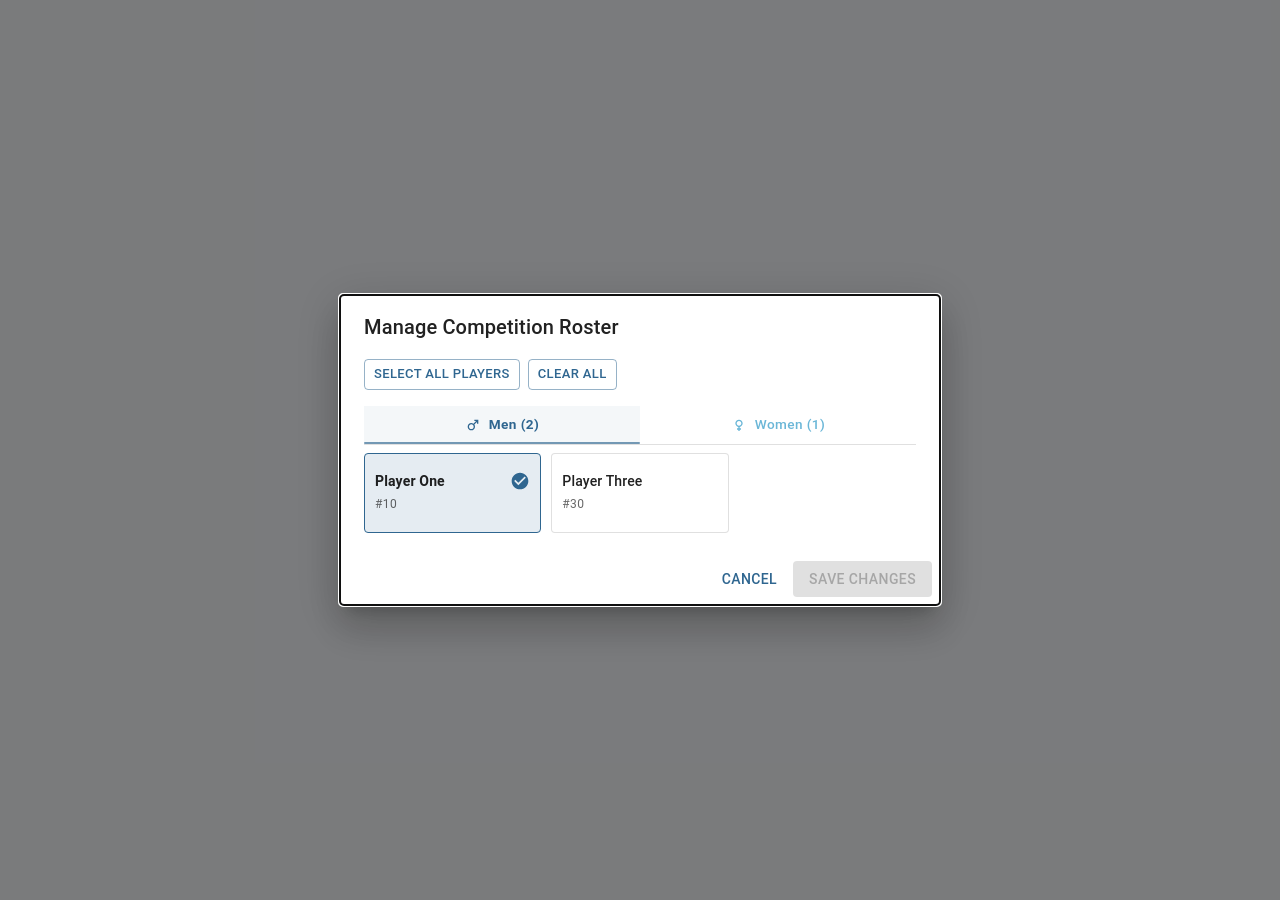
it: AddPlayersToRosterModal › preselects roster players and disables save when unchanged
Expected: the heading "Manage Competition Roster" is shown, top-left (364, 315), bottom-right (619, 339)
Expected: the text "Player One" is shown, top-left (375, 471), bottom-right (445, 491)
Click the button "Player One #10". click: {"x": 453, "y": 493}
box: top-left (365, 454), bottom-right (540, 532)
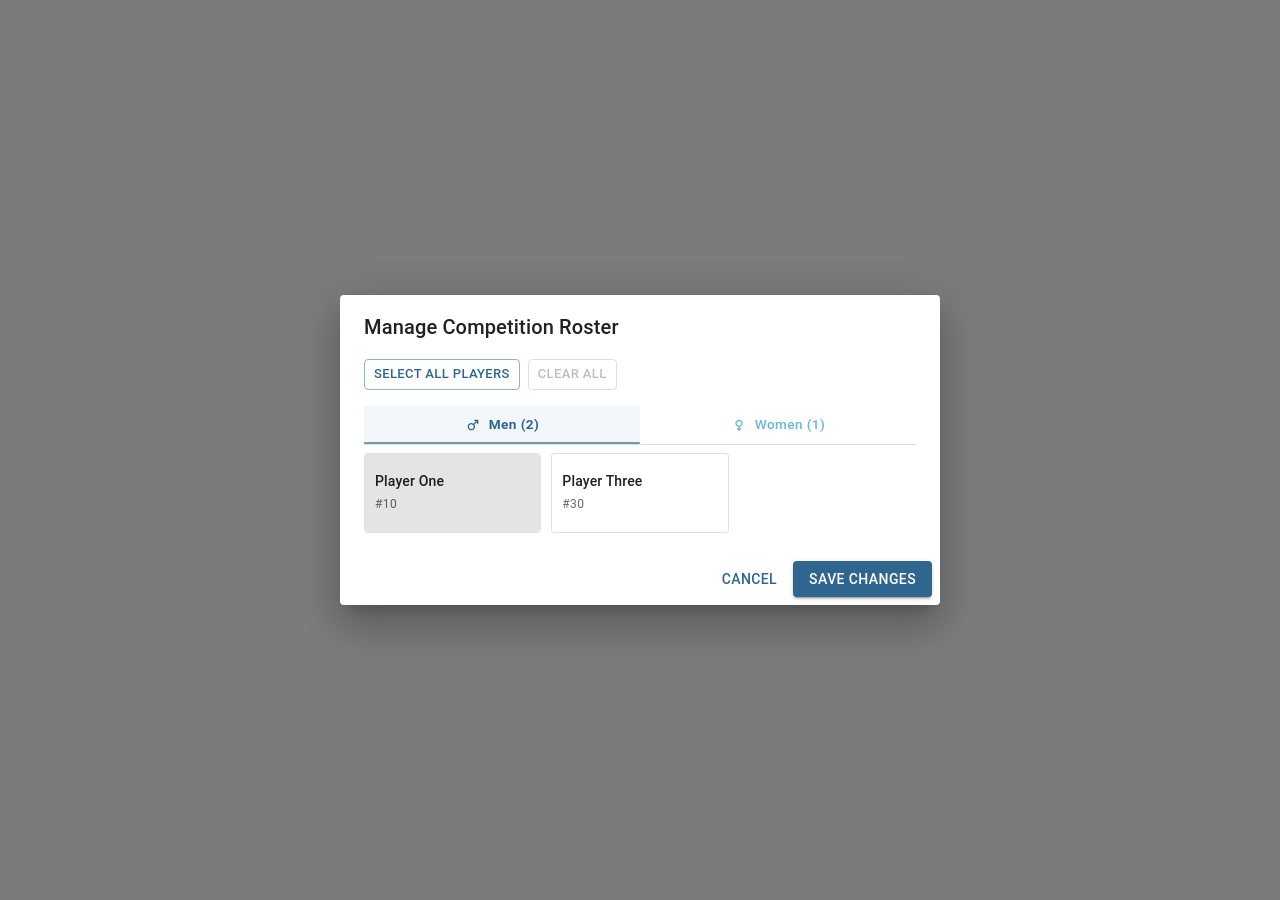
Expected: the button "Save Changes" is enabled, top-left (793, 561), bottom-right (932, 597)
